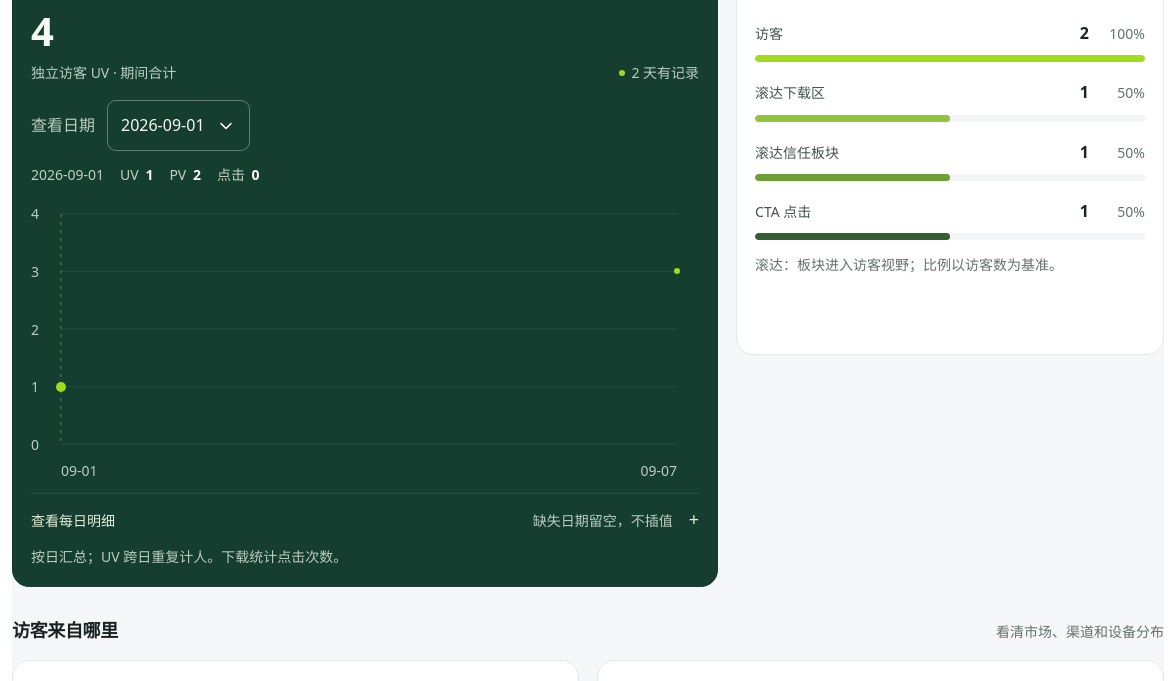
Test: honest trend display › selects the nearest supplied date when the pointer is over a missing day
This screenshot has width=1176, height=681.
(page scrolled)
Check: the text "2026-09-01" is shown, box top-left (31, 163), bottom-right (104, 186)
Click the element with class "dash-chart-plot" at x=369, y=329, box top-left (61, 214), bottom-right (677, 444)
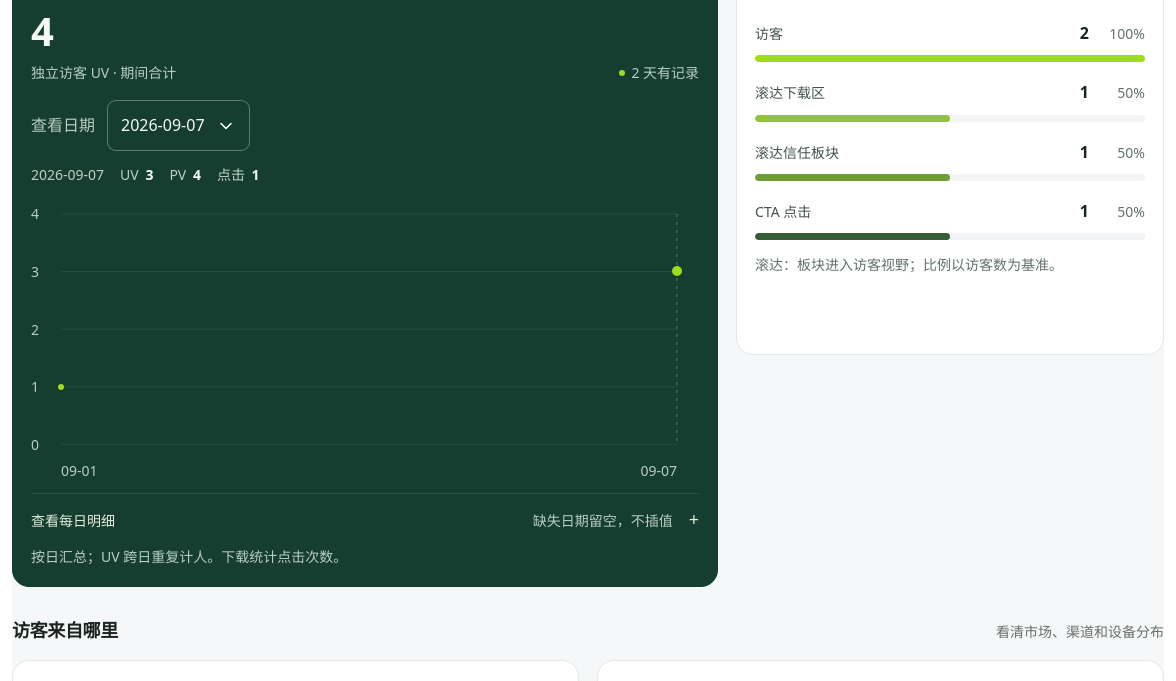
Check: the text "2026-09-07" is shown, box top-left (31, 163), bottom-right (104, 186)
